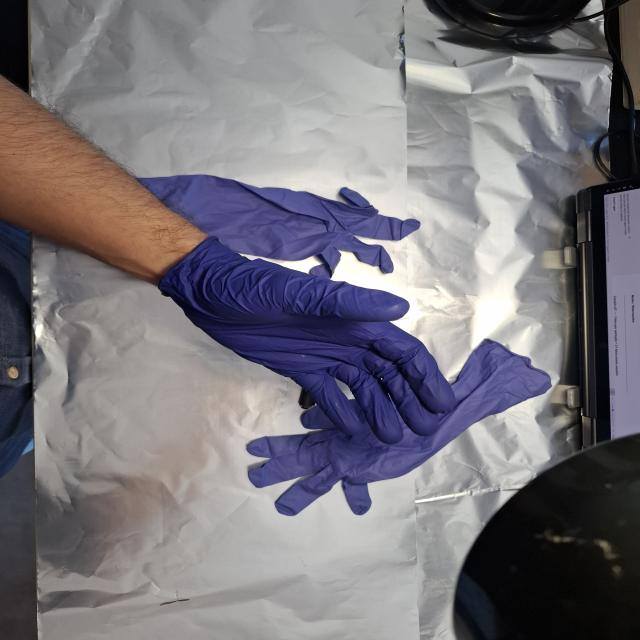glove_on: (157, 230, 459, 447)
